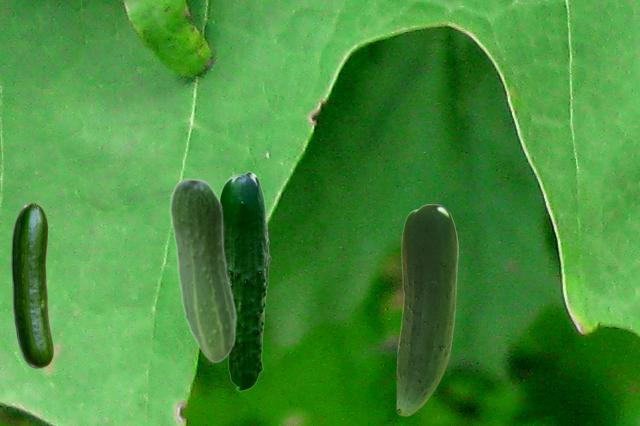cucumber: (396, 204, 457, 415), (169, 177, 236, 362), (219, 171, 270, 390), (11, 203, 52, 367)
